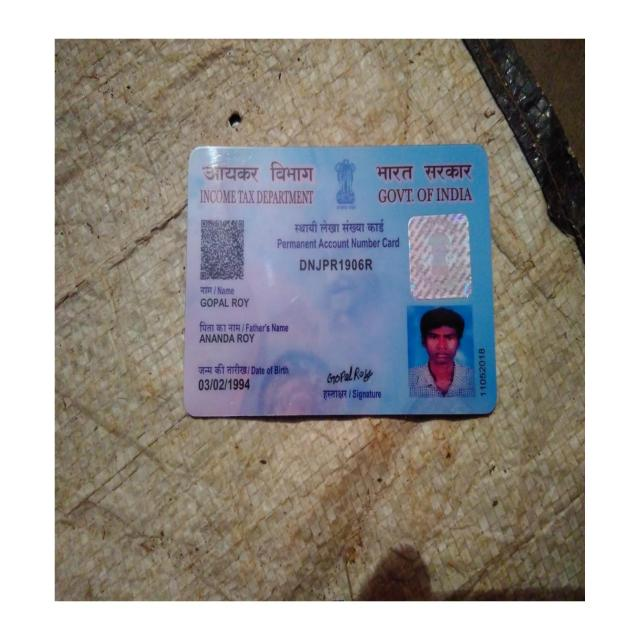pan_card: (186, 151, 495, 408)
